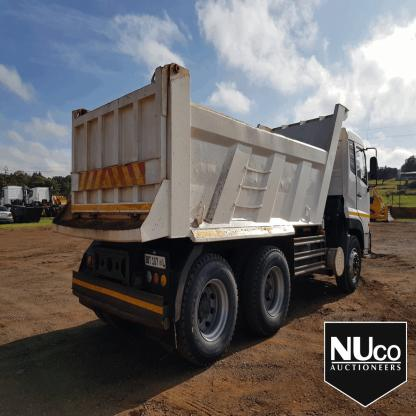dump_truck: (52, 49, 392, 373)
